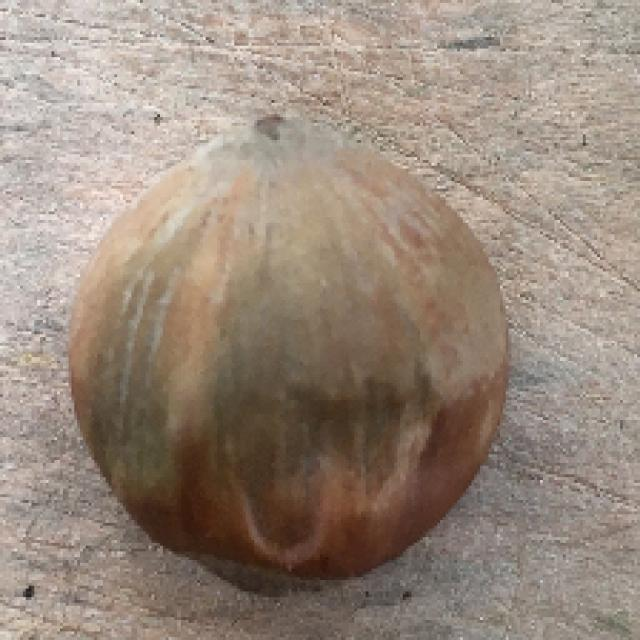DamagedHazelnut: (72, 115, 511, 598)
